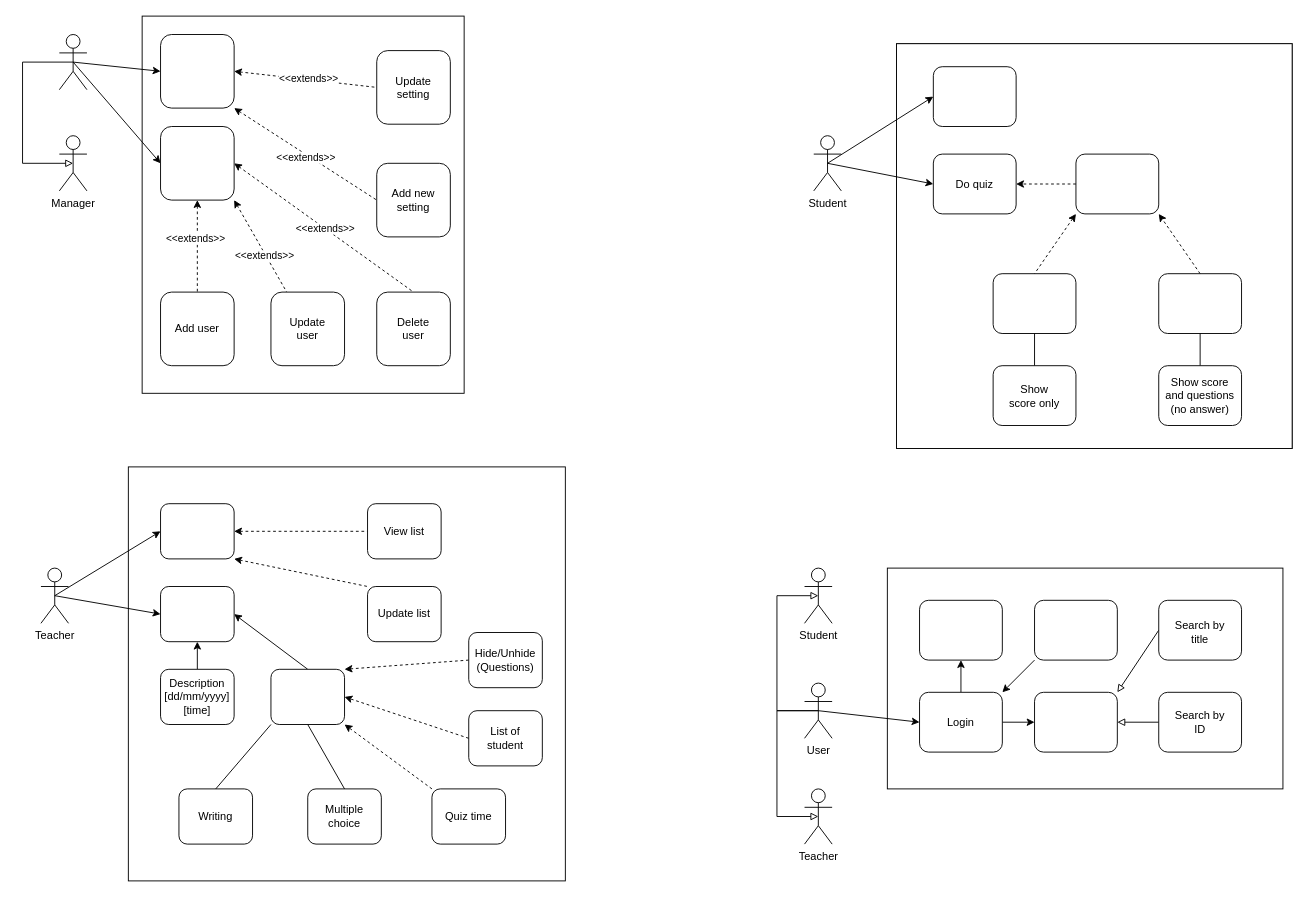
The diagram is 1308 pixels wide and 897 high, and some of its shapes have lost their labels. Here are the shapes that lost their labels. From the top down, the centre of each, then its label:
At point (72, 62): "Admin".
At point (197, 71): "View setting list".
At point (974, 96): "Enroll class".
At point (197, 163): "View User list".
At point (1117, 183): "Submit finished quiz".
At point (1034, 303): "Hide".
At point (1200, 303): "Unhide".
At point (197, 531): "Import student list".
At point (197, 614): "Creat Quiz".
At point (960, 629): "Change password".
At point (1075, 629): "Reset password".
At point (307, 696): "Set up Quiz".
At point (1075, 721): "Search menu".
